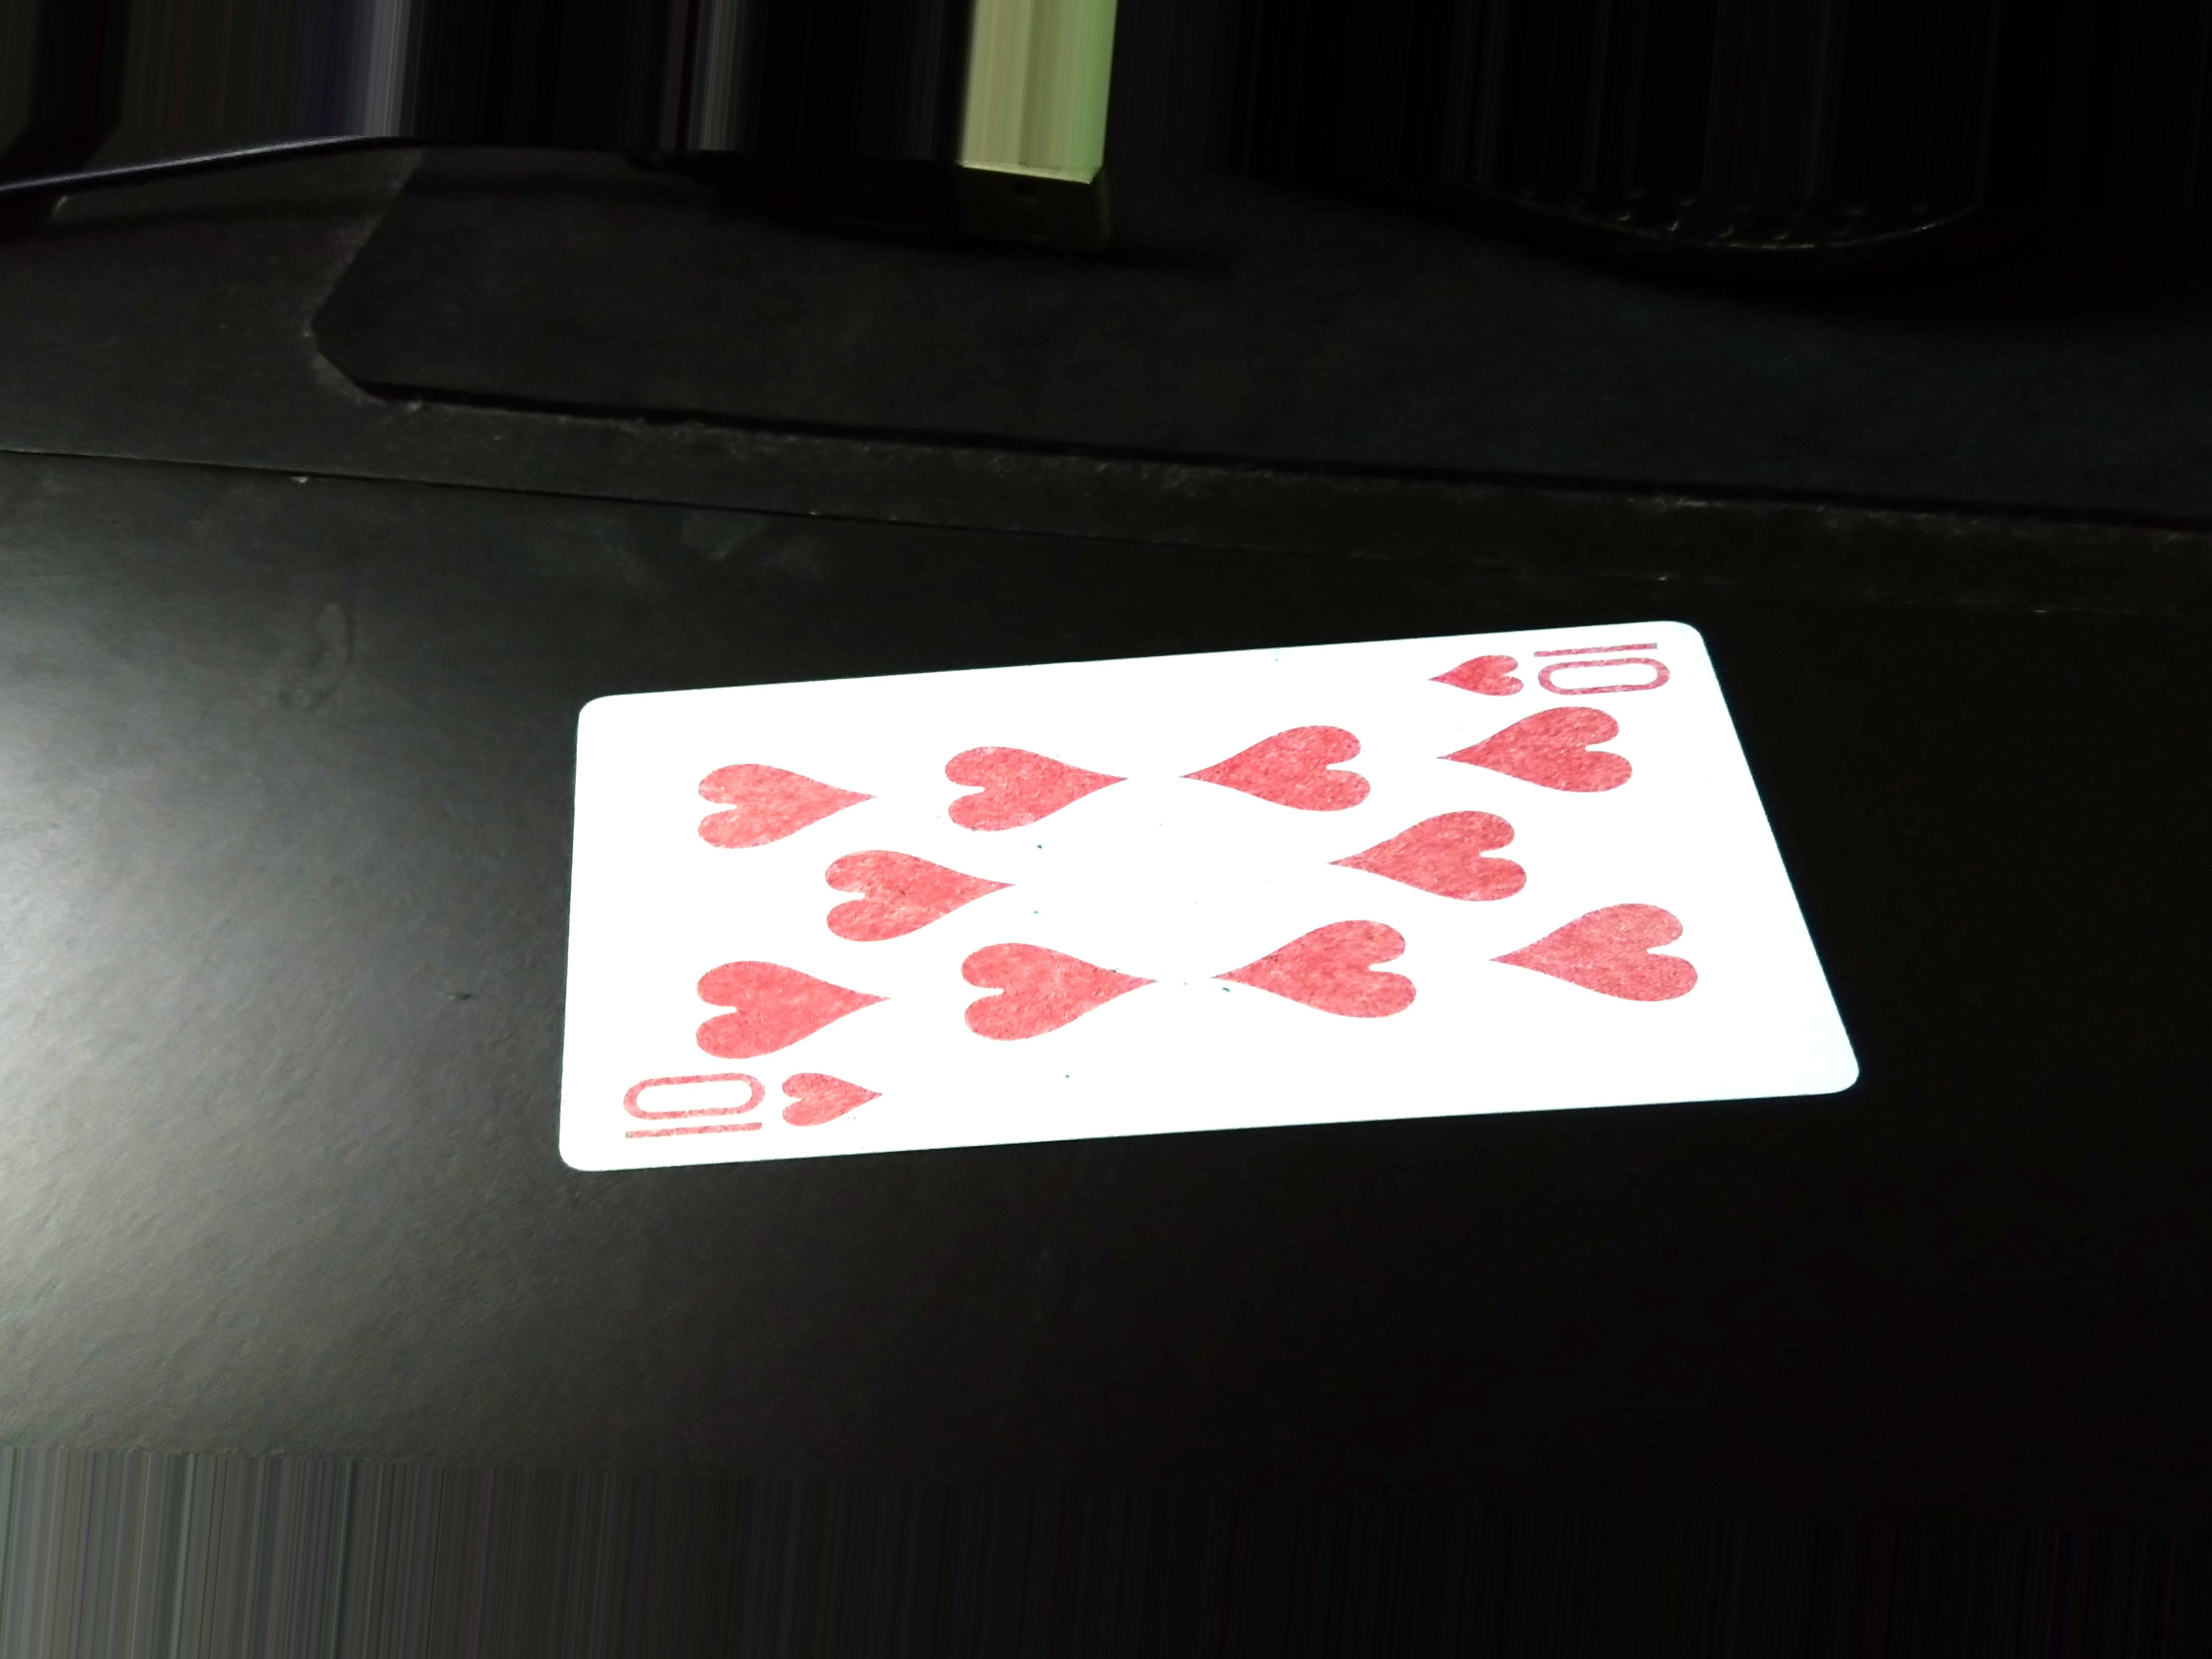10H: (1423, 645, 1688, 706)
